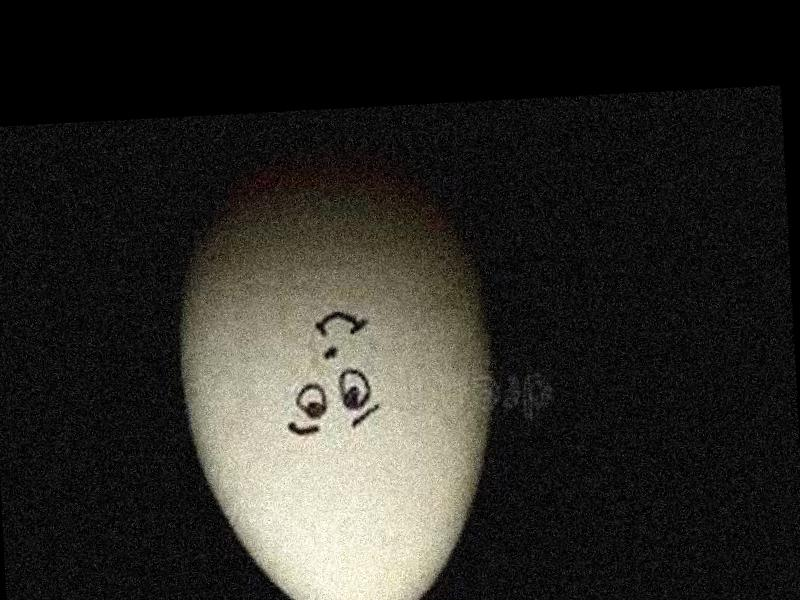Eggs: (173, 163, 502, 600)
